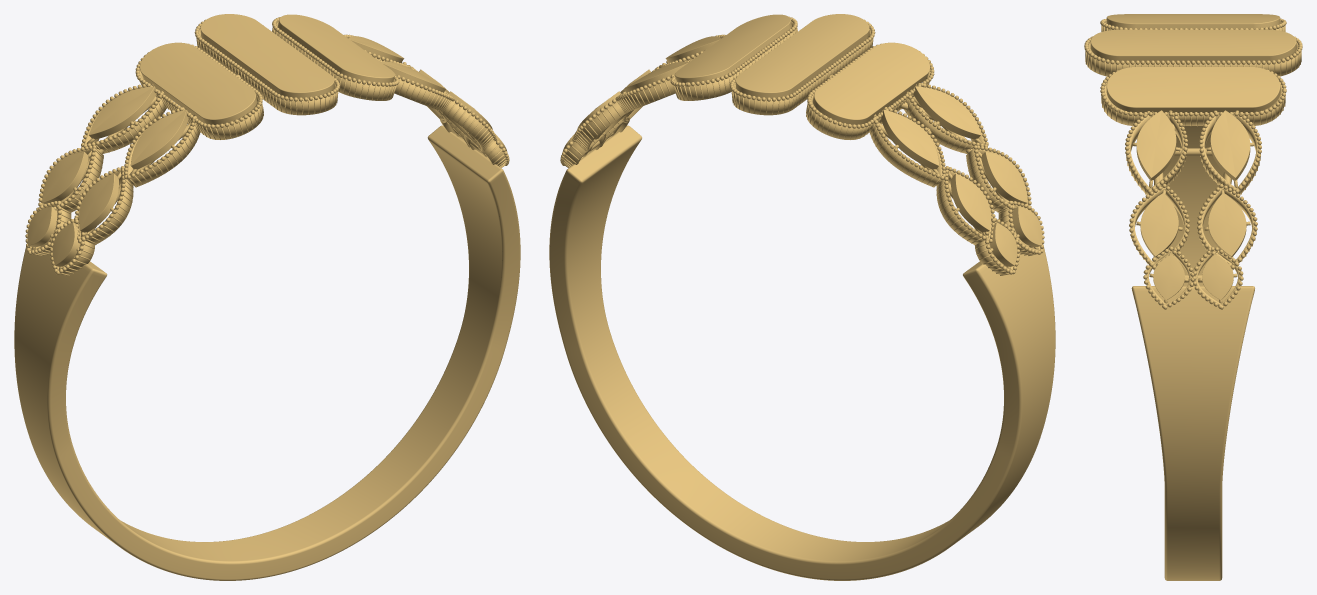
The picture shows the model from 3 angles, left to right: view 1: azimuth 30°, elevation 25°; view 2: azimuth 150°, elevation 25°; view 3: azimuth 270°, elevation 25°; orthographic projection.
Visible parts, largest first — view 1: Complete curved comfort shank | reverse inferred, Fine milgrain | individually modeled rounded beads, Parallel rounded center bar 1 | raised polished face, Parallel rounded center bar 2 | raised polished face, Parallel rounded center bar 3 | raised polished face, Leaf shoulder -1 0 1 | raised polished face, Leaf shoulder -1 0 -1 | raised polished face, Leaf shoulder -1 1 -1 | raised polished face, Leaf shoulder -1 1 1 | raised polished face, Parallel rounded center bar 2 | closed openwork gallery, Leaf shoulder -1 0 -1 | closed openwork gallery, Parallel rounded center bar 3 | closed openwork gallery (+9 smaller); view 2: Complete curved comfort shank | reverse inferred, Fine milgrain | individually modeled rounded beads, Parallel rounded center bar 1 | raised polished face, Parallel rounded center bar 2 | raised polished face, Parallel rounded center bar 3 | raised polished face, Leaf shoulder -1 0 -1 | raised polished face, Leaf shoulder -1 0 1 | raised polished face, Leaf shoulder -1 1 1 | raised polished face, Leaf shoulder -1 1 -1 | raised polished face, Parallel rounded center bar 2 | closed openwork gallery, Leaf shoulder -1 0 1 | closed openwork gallery, Parallel rounded center bar 3 | closed openwork gallery (+10 smaller); view 3: Complete curved comfort shank | reverse inferred, Parallel rounded center bar 3 | raised polished face, Fine milgrain | individually modeled rounded beads, Parallel rounded center bar 2 | raised polished face, Parallel rounded center bar 1 | raised polished face, Leaf shoulder 1 0 1 | raised polished face, Leaf shoulder 1 0 -1 | raised polished face, Leaf shoulder 1 1 1 | raised polished face, Leaf shoulder 1 1 -1 | raised polished face, Parallel rounded center bar 2 | closed openwork gallery, Parallel rounded center bar 3 | closed openwork gallery, Leaf shoulder 1 2 -1 | raised polished face (+9 smaller).
Boxes of the visible parts, box(x1,y1,x2,y2) form: Complete curved comfort shank | reverse inferred: box(14, 125, 520, 580); Fine milgrain | individually modeled rounded beads: box(25, 17, 509, 274); Parallel rounded center bar 1 | raised polished face: box(139, 42, 257, 124); Parallel rounded center bar 2 | raised polished face: box(200, 14, 334, 98); Parallel rounded center bar 3 | raised polished face: box(277, 14, 395, 83); Leaf shoulder -1 0 1 | raised polished face: box(89, 86, 156, 139); Leaf shoulder -1 0 -1 | raised polished face: box(130, 109, 188, 169); Leaf shoulder -1 1 -1 | raised polished face: box(79, 173, 118, 232); Leaf shoulder -1 1 1 | raised polished face: box(42, 152, 88, 204); Parallel rounded center bar 2 | closed openwork gallery: box(198, 27, 337, 115); Leaf shoulder -1 0 -1 | closed openwork gallery: box(127, 109, 199, 187); Parallel rounded center bar 3 | closed openwork gallery: box(273, 21, 395, 100); Complete curved comfort shank | reverse inferred: box(549, 125, 1055, 580); Fine milgrain | individually modeled rounded beads: box(560, 16, 1044, 274); Parallel rounded center bar 1 | raised polished face: box(812, 42, 930, 124); Parallel rounded center bar 2 | raised polished face: box(735, 14, 869, 98); Parallel rounded center bar 3 | raised polished face: box(674, 14, 792, 83); Leaf shoulder -1 0 -1 | raised polished face: box(913, 86, 980, 139); Leaf shoulder -1 0 1 | raised polished face: box(881, 109, 939, 169); Leaf shoulder -1 1 1 | raised polished face: box(951, 173, 990, 232); Leaf shoulder -1 1 -1 | raised polished face: box(981, 152, 1027, 204); Parallel rounded center bar 2 | closed openwork gallery: box(733, 27, 871, 115); Leaf shoulder -1 0 1 | closed openwork gallery: box(869, 110, 942, 187); Parallel rounded center bar 3 | closed openwork gallery: box(674, 21, 796, 100); Complete curved comfort shank | reverse inferred: box(1131, 126, 1254, 580); Parallel rounded center bar 3 | raised polished face: box(1106, 67, 1280, 112); Fine milgrain | individually modeled rounded beads: box(1084, 18, 1302, 309); Parallel rounded center bar 2 | raised polished face: box(1090, 29, 1296, 62); Parallel rounded center bar 1 | raised polished face: box(1106, 14, 1280, 29); Leaf shoulder 1 0 1 | raised polished face: box(1210, 110, 1250, 180); Leaf shoulder 1 0 -1 | raised polished face: box(1136, 110, 1176, 180); Leaf shoulder 1 1 1 | raised polished face: box(1208, 192, 1246, 256); Leaf shoulder 1 1 -1 | raised polished face: box(1140, 192, 1178, 257); Parallel rounded center bar 2 | closed openwork gallery: box(1087, 41, 1299, 76); Parallel rounded center bar 3 | closed openwork gallery: box(1103, 80, 1283, 125); Leaf shoulder 1 2 -1 | raised polished face: box(1153, 254, 1184, 300).
Size of the model in its own units: 0.0195 by 0.0203 by 0.0078.
